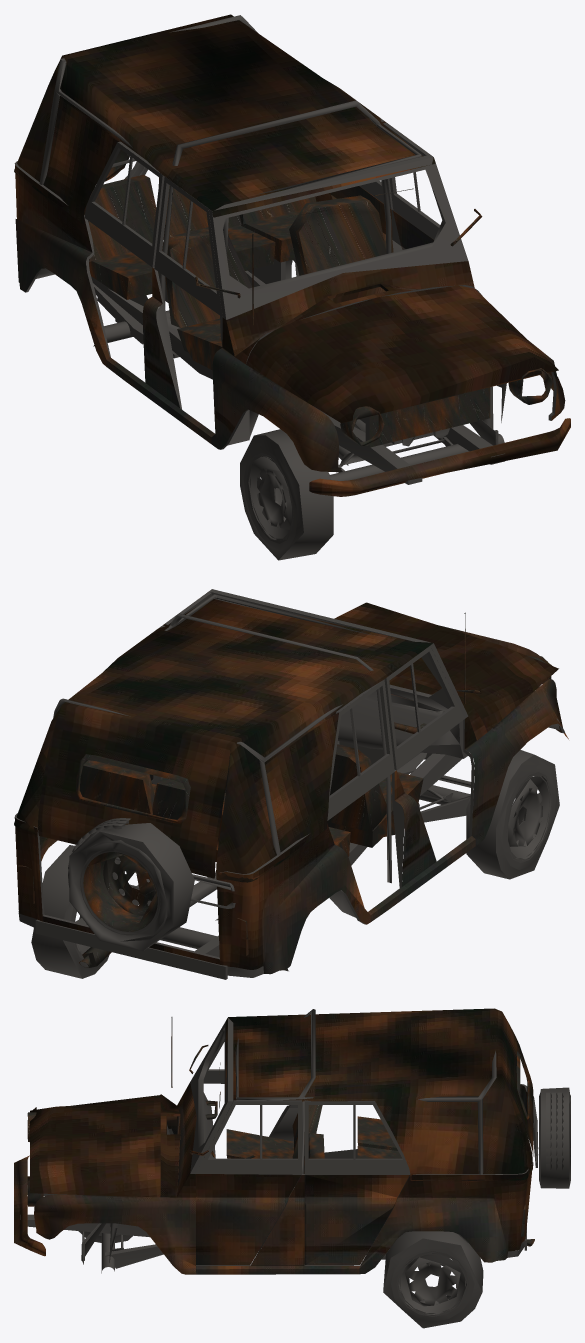
The model's file is car_wreck.glb.
3 views of the same model, one above another, from view 1: azimuth 30°, elevation 25°; view 2: azimuth 150°, elevation 25°; view 3: azimuth 270°, elevation 25° (orthographic). The views are drawn at different scales.
Parts seen in each view (by area): view 1: uaz_wreck_uaz_wreck; view 2: uaz_wreck_uaz_wreck; view 3: uaz_wreck_uaz_wreck.
Boxes of the visible parts, x1,y1,x2,y2 form: uaz_wreck_uaz_wreck: (14, 14, 570, 560); uaz_wreck_uaz_wreck: (14, 589, 568, 979); uaz_wreck_uaz_wreck: (14, 1008, 570, 1328).
Size of the model in its own units: 1.96 by 2.02 by 4.26.
Materials: 5 (4 with a texture image).
